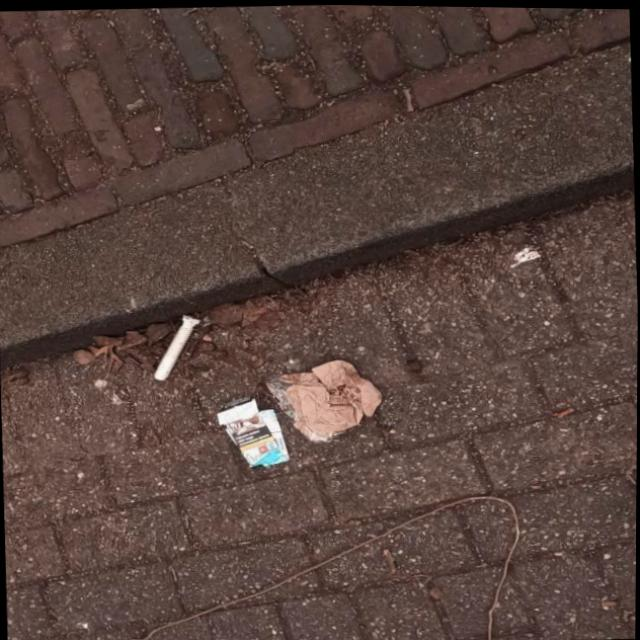Paper: (260, 356, 385, 446), (214, 396, 292, 471)
